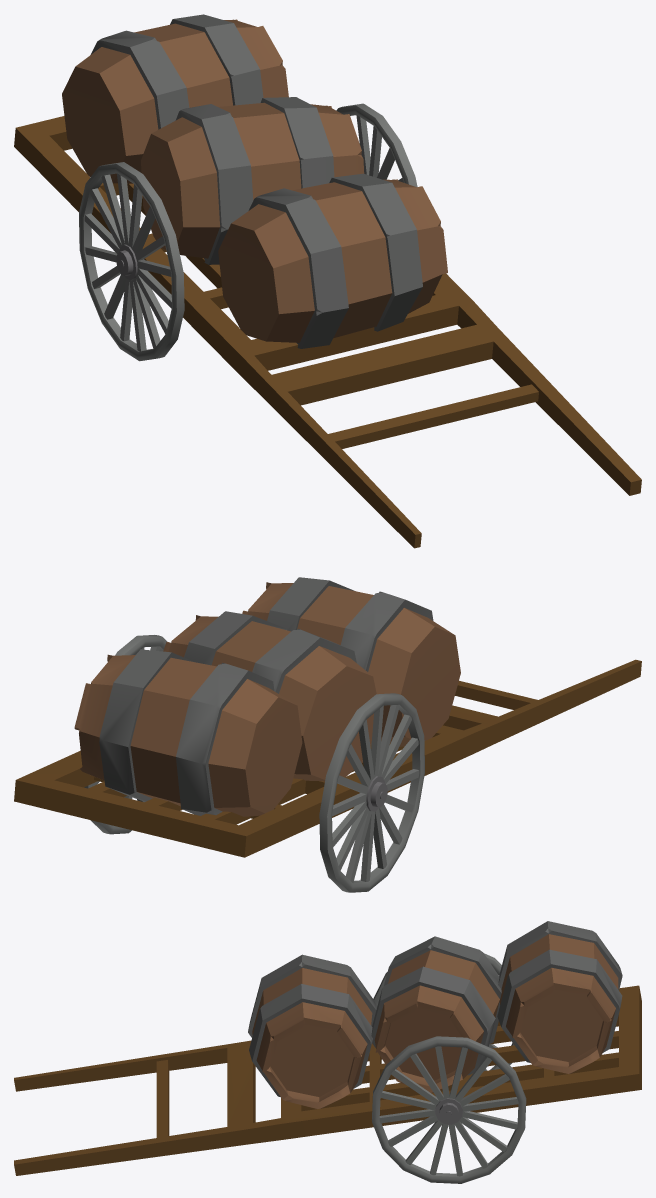
The model's file is WoodenCart_1.fbx.
The picture shows the model from 3 angles, top to bottom: view 1: azimuth 30°, elevation 25°; view 2: azimuth 150°, elevation 25°; view 3: azimuth 270°, elevation 25°; orthographic projection. The views are drawn at different scales.
Visible parts, largest first — view 1: WoodenCart_1; view 2: WoodenCart_1; view 3: WoodenCart_1.
Part boxes in pixels (bbox=[...]): WoodenCart_1: bbox=[14, 14, 641, 548]; WoodenCart_1: bbox=[14, 577, 641, 892]; WoodenCart_1: bbox=[14, 921, 641, 1183].
Size of the model in its own units: 97.06 by 88.3 by 258.
